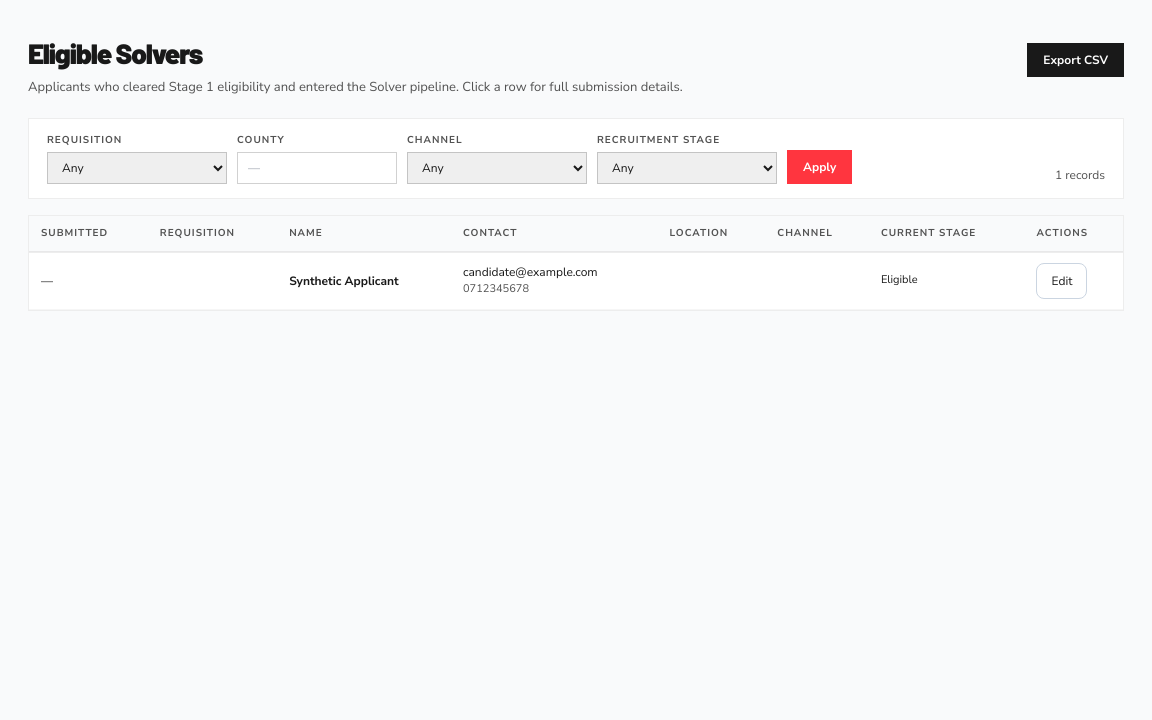
Scenario: stale record rejection keeps the editor open
The width and height of the screenshot is (1152, 720).
Click the button "Edit": coordinates (1062, 280) [1036, 262, 1087, 298]
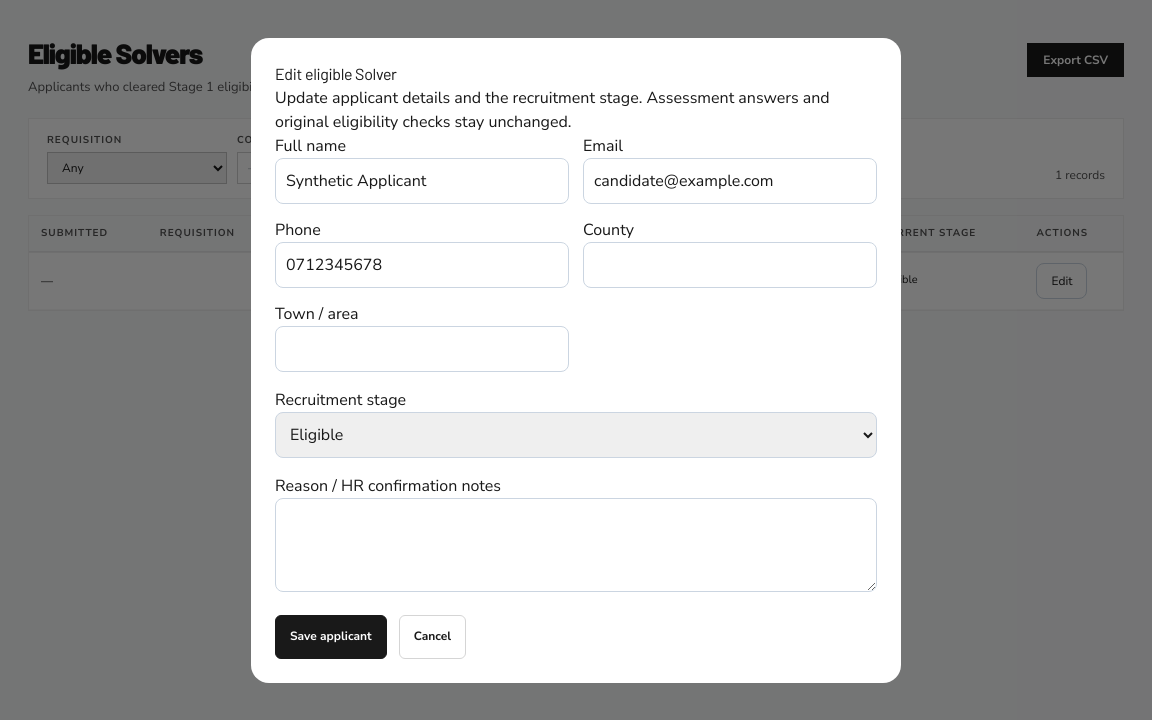
Submit the form, box [251, 38, 901, 682]
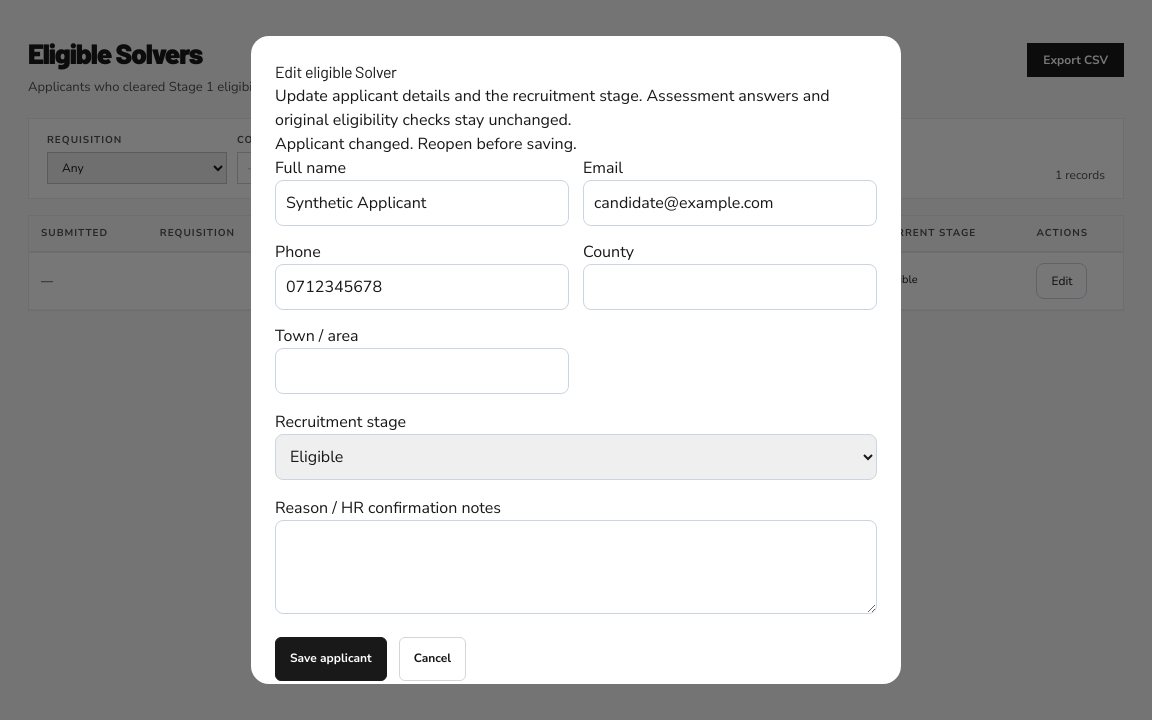
Check: the dialog is shown
Check: the message "Applicant changed. Reopen before saving." is shown, box [275, 133, 577, 155]
